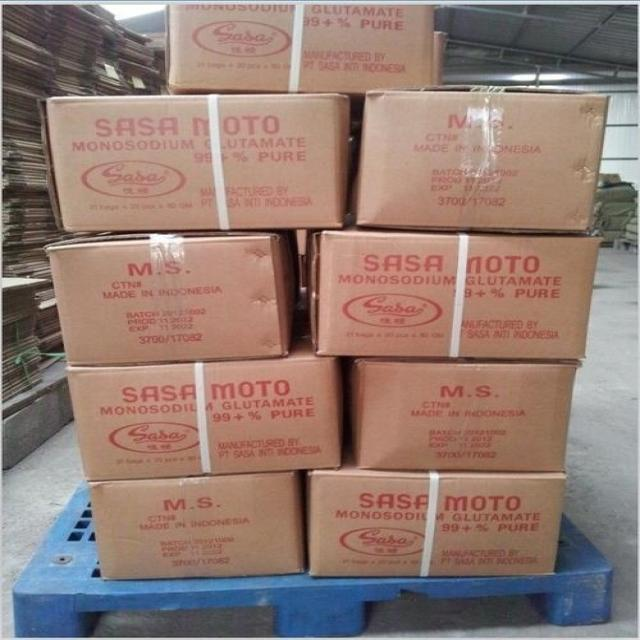box: (42, 95, 349, 233), (70, 330, 338, 482), (312, 230, 600, 360), (354, 86, 609, 232), (48, 229, 299, 369), (310, 469, 565, 575), (349, 357, 576, 473), (89, 471, 309, 579), (165, 6, 433, 93)
